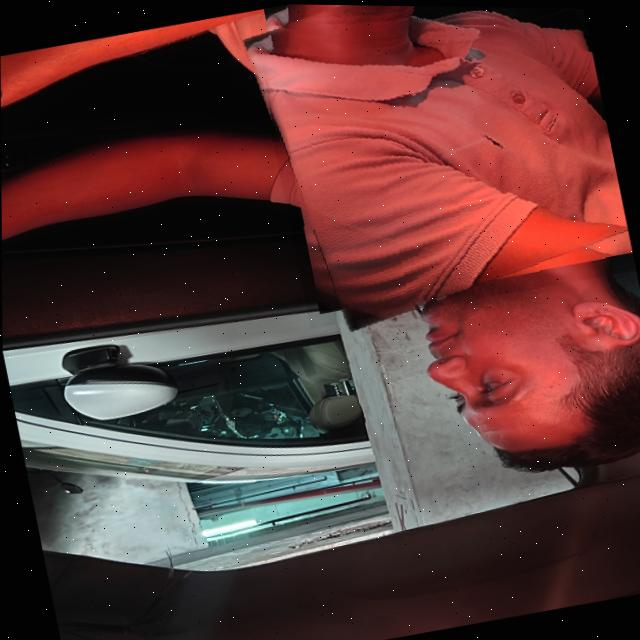no-seatbelt: (247, 3, 636, 331)
